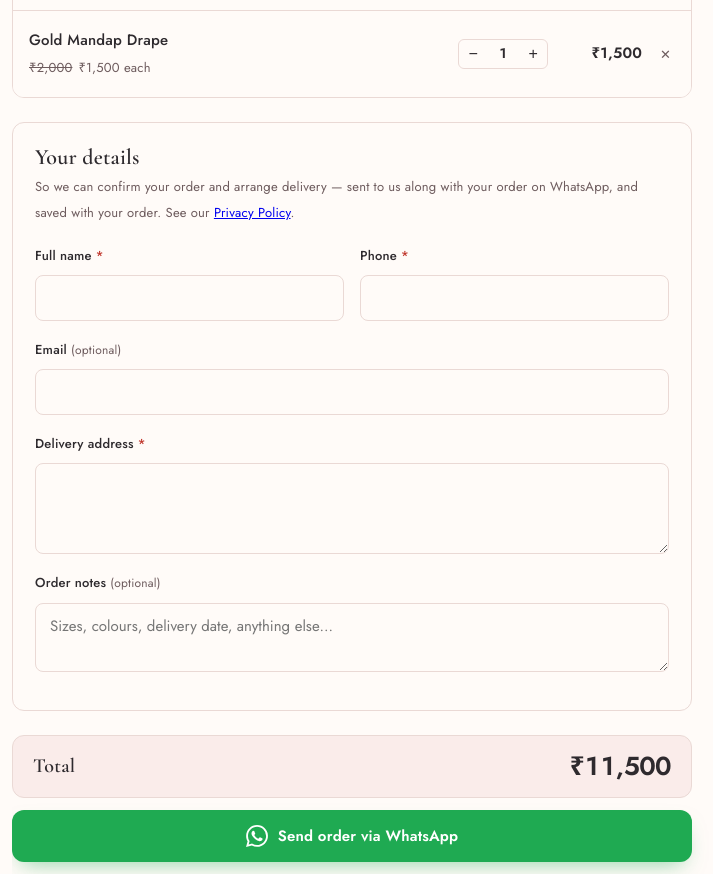
Scenario: placing an order › refuses to submit without a name, phone and address
(page scrolled)
Click the button "Send order via WhatsApp": (352, 836) [12, 810, 692, 862]
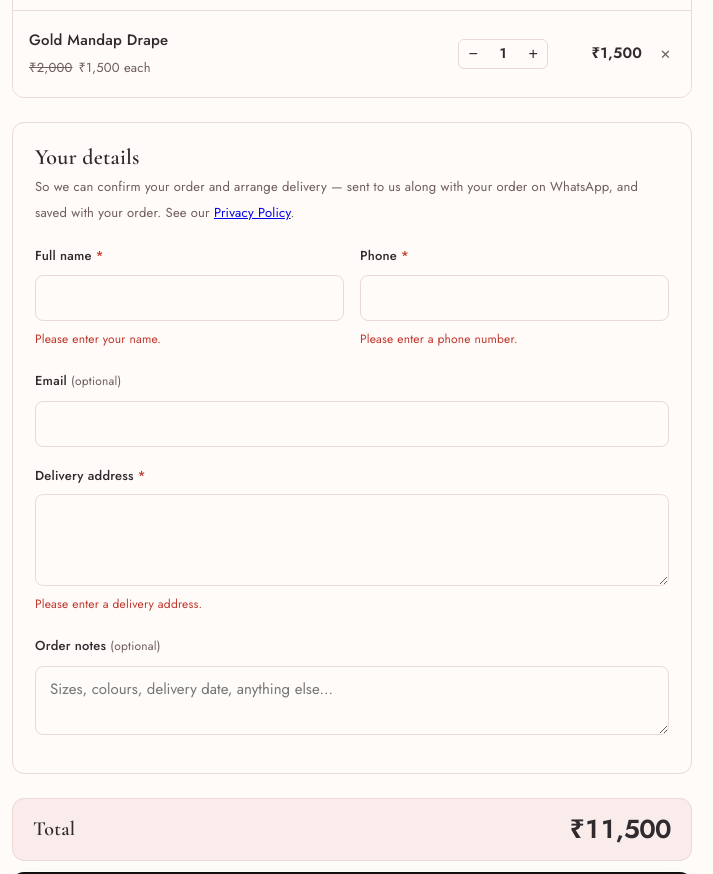
Result: the text "Please enter your name." is shown at [35, 330, 161, 348]
Result: the text "Please enter a phone number." is shown at [360, 330, 518, 348]
Result: the text "Please enter a delivery address." is shown at [35, 595, 202, 613]
